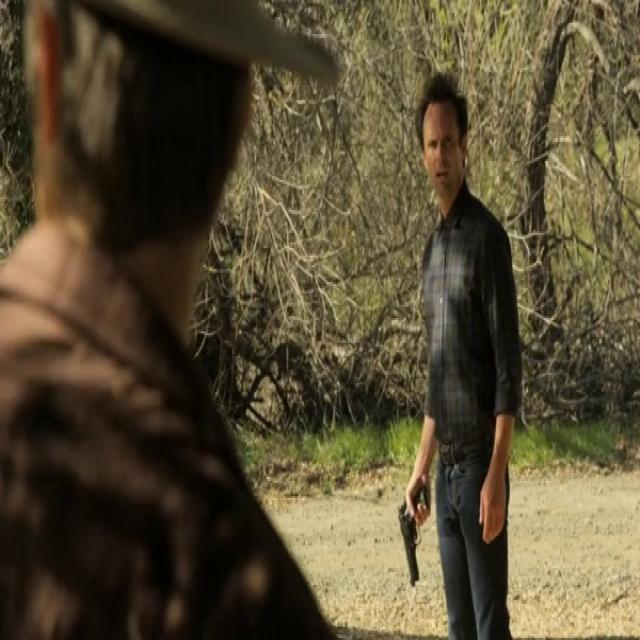weapons: (389, 445, 449, 607)
